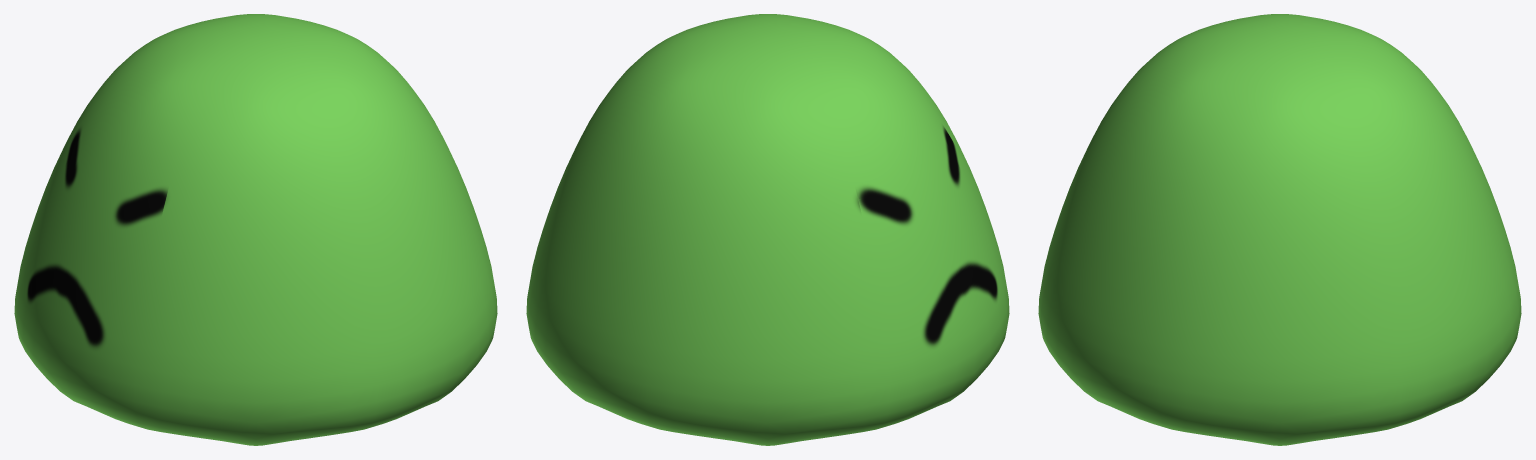
File: BigGoop.fbx
The picture shows the model from 3 angles, left to right: view 1: azimuth 30°, elevation 25°; view 2: azimuth 150°, elevation 25°; view 3: azimuth 270°, elevation 25°; orthographic projection.
Parts seen in each view (by area): view 1: Cone; view 2: Cone; view 3: Cone.
Part boxes in pixels (x1=…): Cone: x1=14, y1=14, x2=497, y2=445; Cone: x1=526, y1=14, x2=1009, y2=445; Cone: x1=1038, y1=14, x2=1521, y2=445.
Size of the model in its own units: 1.08 by 1.07 by 0.8301.
1 material, 1 textured.
